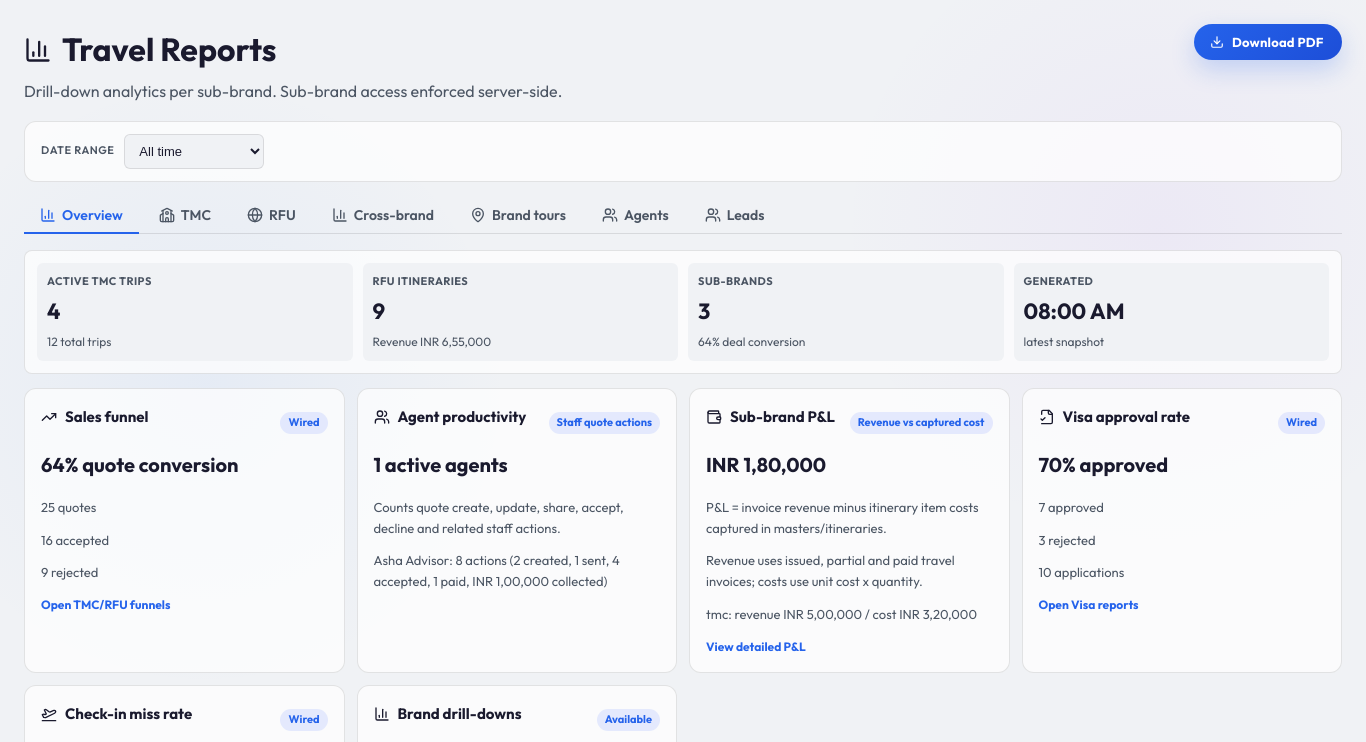
Scenario: <TravelReports /> — RFU tab content › opens RFU report-native revenue and advisor drilldowns
Click the tab "RFU" at {"x": 271, "y": 216}, box [231,198,312,234]
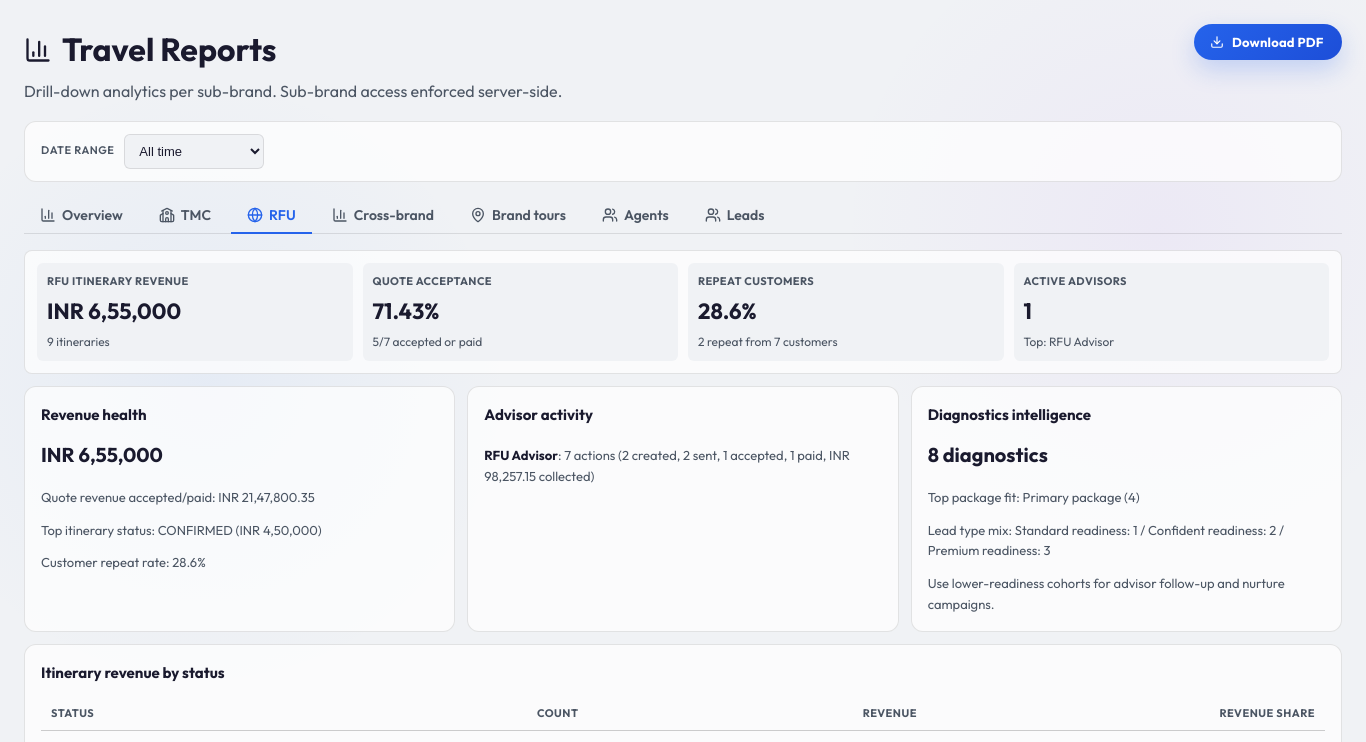
Click the button with aria-label "Revenue health - View revenue detail" at {"x": 94, "y": 414}, box [24,386,455,632]
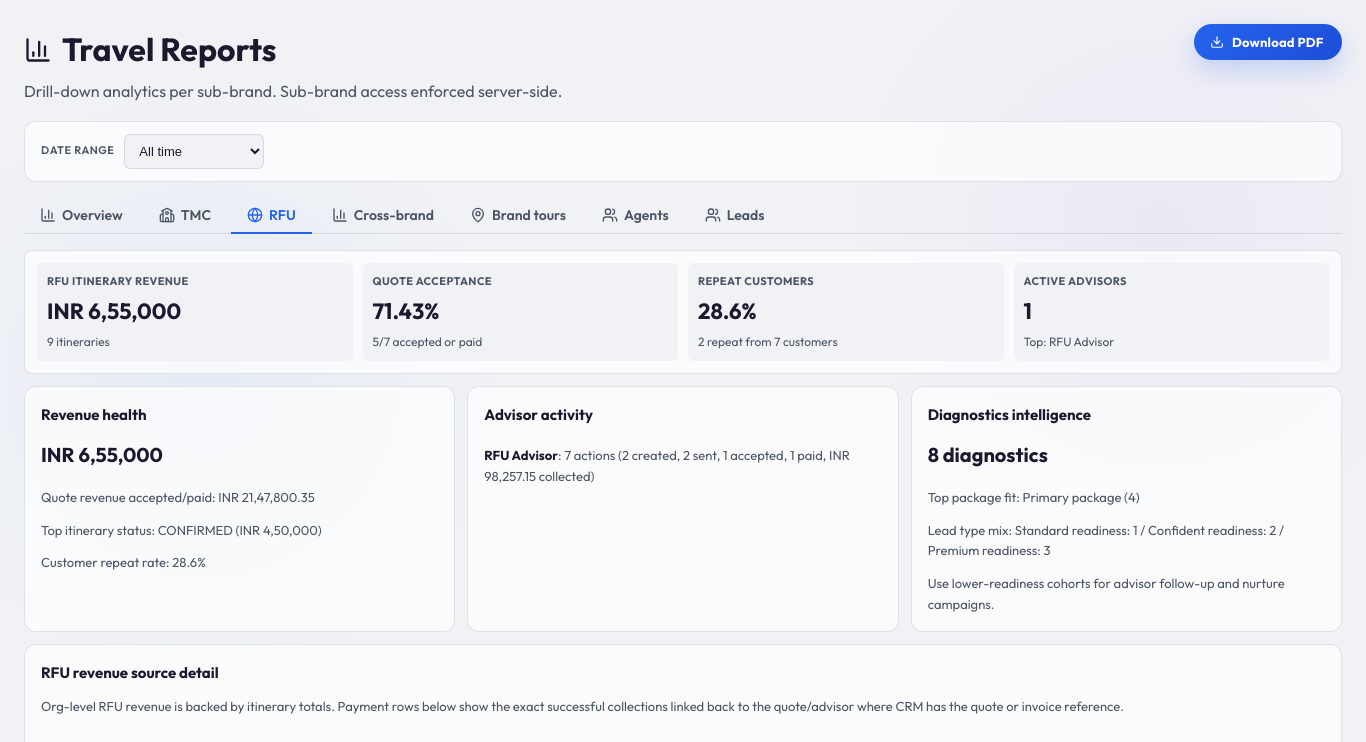
expect the heading "RFU revenue source detail" is shown: met, box [41,663,219,682]
Click the button with aria-label "Advisor activity - View advisor detail" at {"x": 539, "y": 414}, box [467,386,899,632]
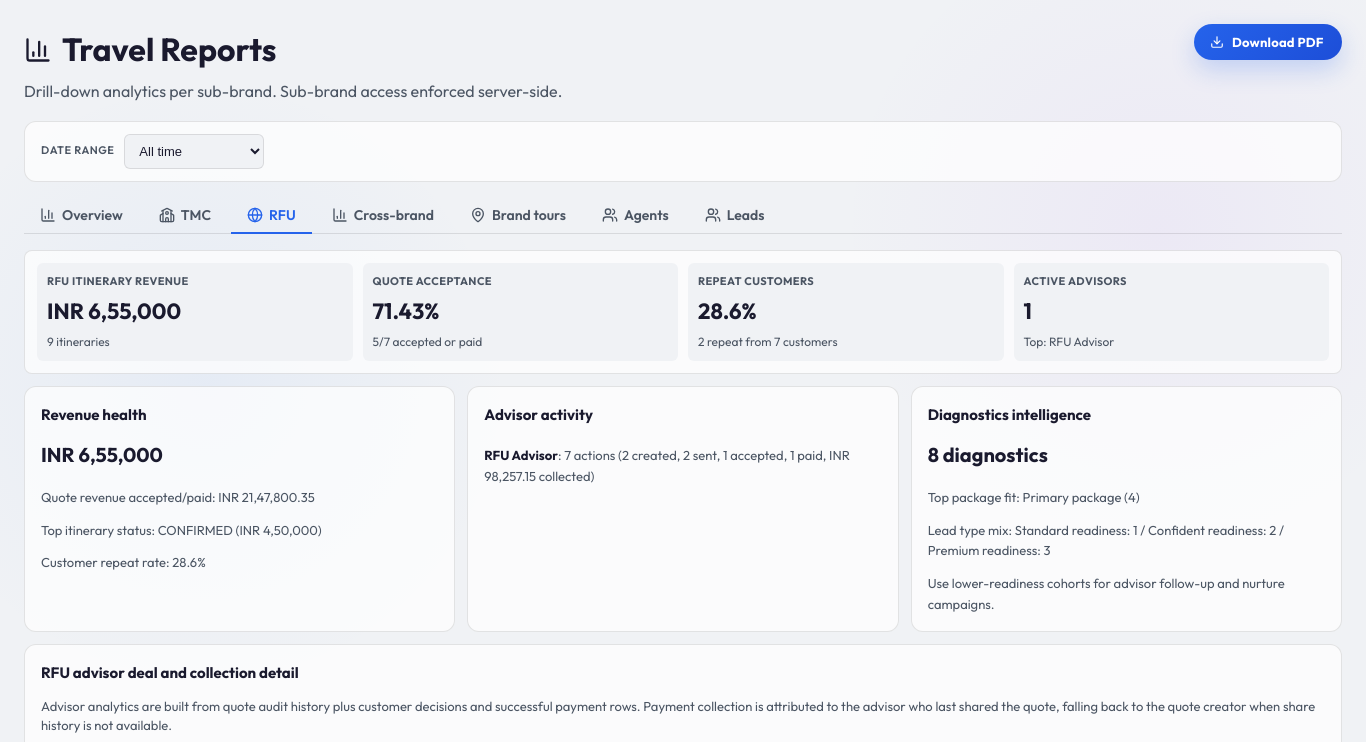
expect the heading "RFU advisor deal and collection detail" is shown: met, box [41,663,299,682]
